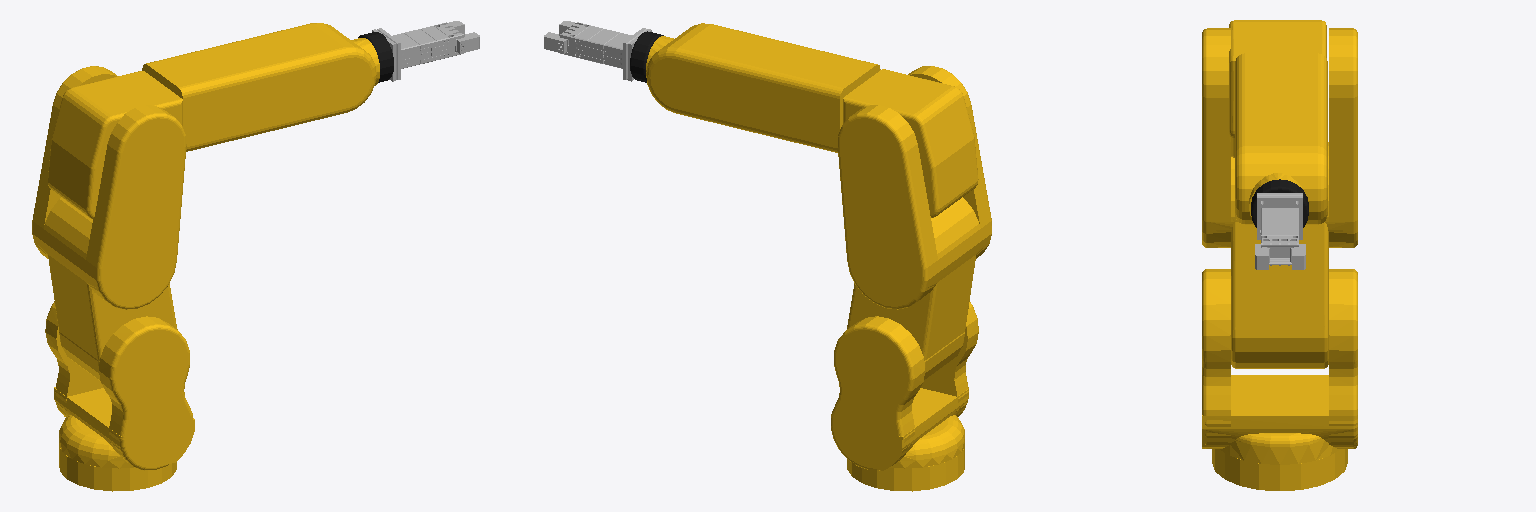
URDF robot description (fanuc_lrmate200id):
<?xml version="1.0" encoding="utf-8" ?>
<!-- =================================================================================== -->
<!-- |    This document was autogenerated by xacro from fanuc_lrmate200id.xacro        | -->
<!-- |    EDITING THIS FILE BY HAND IS NOT RECOMMENDED                                 | -->
<!-- =================================================================================== -->
<!-- =================================================================================== -->
<!-- |    This document was autogenerated by xacro from [local-path]/ros/rosinljubljana/fanuc_ros/src/fanuc_lrmate200id_support/urdf/fanuc_lrmate200id.xacro | -->
<!-- |    EDITING THIS FILE BY HAND IS NOT RECOMMENDED                                 | -->
<!-- =================================================================================== -->
<robot name="fanuc_lrmate200id">
    <!-- links: main serial chain -->
    <link name="base_link">
        <visual>
            <origin rpy="0 0 0" xyz="0 0 0" />
            <geometry>
                <mesh filename="package://fanuc_lrmate200id_support/meshes/lrmate200id/visual/base_link.stl" />
            </geometry>
            <material name="">
                <color rgba="0.278431372549 0.278431372549 0.278431372549 1.0" />
            </material>
        </visual>
        <collision>
            <origin rpy="0 0 0" xyz="0 0 0" />
            <geometry>
                <mesh filename="package://fanuc_lrmate200id_support/meshes/lrmate200id/collision/base_link.stl" />
            </geometry>
        </collision>
        
<inertial>
            <mass value="4" />
            <origin rpy="0 0 0" xyz="0 0 0" />
            <inertia ixx="0.0216667" ixy="0" ixz="0" iyy="0.0216667" iyz="0" izz="0.0240667" />
        </inertial>

    </link>
    <link name="link_1">
        <visual>
            <origin rpy="0 0 0" xyz="0 0 0" />
            <geometry>
                <mesh filename="package://fanuc_lrmate200id_support/meshes/lrmate200id/visual/link_1.stl" />
            </geometry>
            <material name="">
                <color rgba="0.96 0.76 0.13 1.0" />
            </material>
        </visual>
        <collision>
            <origin rpy="0 0 0" xyz="0 0 0" />
            <geometry>
                <mesh filename="package://fanuc_lrmate200id_support/meshes/lrmate200id/collision/link_1.stl" />
            </geometry>
        </collision>
        
<inertial>
            <mass value="4" />
            <origin rpy="0 0 0" xyz="0 0 0" />
            <inertia ixx="0.0322667" ixy="0" ixz="0" iyy="0.0226667" iyz="0" izz="0.0226667" />
        </inertial>

    </link>
    <link name="link_2">
        <visual>
            <origin rpy="0 0 0" xyz="0 0 0" />
            <geometry>
                <mesh filename="package://fanuc_lrmate200id_support/meshes/lrmate200id/visual/link_2.stl" />
            </geometry>
            <material name="">
                <color rgba="0.96 0.76 0.13 1.0" />
            </material>
        </visual>
        <collision>
            <origin rpy="0 0 0" xyz="0 0 0" />
            <geometry>
                <mesh filename="package://fanuc_lrmate200id_support/meshes/lrmate200id/collision/link_2.stl" />
            </geometry>
        </collision>
        
<inertial>
            <mass value="5" />
            <origin rpy="0 0 0" xyz="0 0 0" />
            <inertia ixx="0.0973333" ixy="0" ixz="0" iyy="0.0888333" iyz="0" izz="0.0248333" />
        </inertial>

    </link>
    <link name="link_3">
        <visual>
            <origin rpy="0 0 0" xyz="0 0 0" />
            <geometry>
                <mesh filename="package://fanuc_lrmate200id_support/meshes/lrmate200id/visual/link_3.stl" />
            </geometry>
            <material name="">
                <color rgba="0.96 0.76 0.13 1.0" />
            </material>
        </visual>
        <collision>
            <origin rpy="0 0 0" xyz="0 0 0" />
            <geometry>
                <mesh filename="package://fanuc_lrmate200id_support/meshes/lrmate200id/collision/link_3.stl" />
            </geometry>
        </collision>
        
<inertial>
            <mass value="4" />
            <origin rpy="0 0 0" xyz="0 0 0" />
            <inertia ixx="0.0104333" ixy="0" ixz="0" iyy="0.0121667" iyz="0" izz="0.0113333" />
        </inertial>

    </link>
    <link name="link_4">
        <visual>
            <origin rpy="0 0 0" xyz="0 0 0" />
            <geometry>
                <mesh filename="package://fanuc_lrmate200id_support/meshes/lrmate200id/visual/link_4.stl" />
            </geometry>
            <material name="">
                <color rgba="0.96 0.76 0.13 1.0" />
            </material>
        </visual>
        <collision>
            <origin rpy="0 0 0" xyz="0 0 0" />
            <geometry>
                <mesh filename="package://fanuc_lrmate200id_support/meshes/lrmate200id/collision/link_4.stl" />
            </geometry>
        </collision>
        
<inertial>
            <mass value="5" />
            <origin rpy="0 0 0" xyz="0 0 0" />
            <inertia ixx="0.00833333" ixy="0" ixz="0" iyy="0.0368333" iyz="0" izz="0.0368333" />
        </inertial>

    </link>
    <link name="link_5">
        <visual>
            <origin rpy="0 0 0" xyz="0 0 0" />
            <geometry>
                <mesh filename="package://fanuc_lrmate200id_support/meshes/lrmate200id/visual/link_5.stl" />
            </geometry>
            <material name="">
                <color rgba="0.96 0.76 0.13 1.0" />
            </material>
        </visual>
        <collision>
            <origin rpy="0 0 0" xyz="0 0 0" />
            <geometry>
                <mesh filename="package://fanuc_lrmate200id_support/meshes/lrmate200id/collision/link_5.stl" />
            </geometry>
        </collision>
        
<inertial>
            <mass value="1.5" />
            <origin rpy="0 0 0" xyz="0 0 0" />
            <inertia ixx="0.0018125" ixy="0" ixz="0" iyy="0.0023125" iyz="0" izz="0.002525" />
        </inertial>

    </link>
    <link name="link_6">
        <visual>
            <origin rpy="0 0 0" xyz="-0.057 0 0" />
            <geometry>
                <mesh filename="package://fanuc_lrmate200id_support/meshes/lrmate200id/visual/link_6.stl" />
            </geometry>
            <material name="">
                <color rgba="0.15 0.15 0.15 1.0" />
            </material>
        </visual>
        <collision>
            <origin rpy="0 0 0" xyz="0 0 0" />
            <geometry>
                <mesh filename="package://fanuc_lrmate200id_support/meshes/lrmate200id/collision/link_6.stl" />
            </geometry>
        </collision>
        
<inertial>
            <mass value="0.25" />
            <origin rpy="0 0 0" xyz="0 0 0" />
            <inertia ixx="6.66666e-05" ixy="0" ixz="0" iyy="3.54167e-05" iyz="0" izz="3.54167e-05" />
        </inertial>

    </link>
    <link name="flange">
        <visual>
            <origin rpy="0 0 0" xyz="0 0 0" />
            <geometry>
                <mesh filename="package://fanuc_lrmate200id_support/meshes/lrmate200id/visual/gripper.stl" scale="0.001 0.001 0.001" />
            </geometry>
            <material name="">
                <color rgba="0.75 0.75 0.75 1.0" />
            </material>
        </visual>
        <collision>
            <origin rpy="0 0 0" xyz="0 0 0" />
            <geometry>
                <mesh filename="package://fanuc_lrmate200id_support/meshes/lrmate200id/collision/gripper.stl" scale="0.001 0.001 0.001" />
            </geometry>
        </collision>
        
<inertial>
            <mass value="0.1" />
            <origin rpy="0 0 0" xyz="0 0 0" />
            <inertia ixx="6e-06" ixy="0" ixz="0" iyy="6e-06" iyz="0" izz="6e-06" />
        </inertial>

    </link>
    <link name="left_finger">
        <visual>
            <origin rpy="0 0 0" xyz="0 0 0" />
            <geometry>
                <mesh filename="package://fanuc_lrmate200id_support/meshes/lrmate200id/visual/left_finger.stl" scale="0.001 0.001 0.001" />
            </geometry>
            <material name="">
                <color rgba="0.75 0.75 0.75 1.0" />
            </material>
        </visual>
        <collision>
            <origin rpy="0 0 0" xyz="0 0 0" />
            <geometry>
                <mesh filename="package://fanuc_lrmate200id_support/meshes/lrmate200id/collision/left_finger.stl" scale="0.001 0.001 0.001" />
            </geometry>
        </collision>
        
<inertial>
            <mass value="0.01" />
            <origin rpy="0 0 0" xyz="0 0 0" />
            <inertia ixx="6e-06" ixy="0" ixz="0" iyy="6e-06" iyz="0" izz="6e-06" />
        </inertial>

    </link>
    <link name="right_finger">
        <visual>
            <origin rpy="0 0 0" xyz="0 0 0" />
            <geometry>
                <mesh filename="package://fanuc_lrmate200id_support/meshes/lrmate200id/visual/right_finger.stl" scale="0.001 0.001 0.001" />
            </geometry>
            <material name="">
                <color rgba="0.75 0.75 0.75 1.0" />
            </material>
        </visual>
        <collision>
            <origin rpy="0 0 0" xyz="0 0 0" />
            <geometry>
                <mesh filename="package://fanuc_lrmate200id_support/meshes/lrmate200id/collision/right_finger.stl" scale="0.001 0.001 0.001" />
            </geometry>
        </collision>
        
<inertial>
            <mass value="0.01" />
            <origin rpy="0 0 0" xyz="0 0 0" />
            <inertia ixx="6e-06" ixy="0" ixz="0" iyy="6e-06" iyz="0" izz="6e-06" />
        </inertial>

    </link>
    <!-- joints: main serial chain -->
    <joint name="joint_1" type="revolute">
        <origin rpy="0 0 0" xyz="-0.006 -0.002 0.290" />
        <parent link="base_link" />
        <child link="link_1" />
        <axis xyz="0 0 1" />
        <dynamics damping="1.0" />
        <limit effort="100" lower="-2.965" upper="2.965" velocity="7.85" />
    </joint>
    <joint name="joint_2" type="revolute">
        <origin rpy="0 0 0" xyz="0 0 0.040" />
        <parent link="link_1" />
        <child link="link_2" />
        <axis xyz="0 1 0" />
        <dynamics damping="1.0" />
        <limit effort="100" lower="-1.745329" upper="2.530727" velocity="6.63" />
    </joint>
    <joint name="joint_3" type="revolute">
        <origin rpy="0 0 0" xyz="0.0 0 0.26" />
        <parent link="link_2" />
        <child link="link_3" />
        <axis xyz="0 -1 0" />
        <dynamics damping="1.0" />
        <limit effort="100" lower="-2.450966" upper="4.886922" velocity="9.08" />
    </joint>
    <joint name="joint_4" type="revolute">
        <origin rpy="0 0 0" xyz="0.064 0 0.02" />
        <parent link="link_3" />
        <child link="link_4" />
        <axis xyz="-1 0 0" />
        <dynamics damping="1.0" />
        <limit effort="100" lower="-3.315" upper="3.315" velocity="9.60" />
    </joint>
    <joint name="joint_5" type="revolute">
        <origin rpy="0 0 0" xyz="0.226 0 0" />
        <parent link="link_4" />
        <child link="link_5" />
        <axis xyz="0 -1 0" />
        <dynamics damping="1.0" />
        <limit effort="100" lower="-2.18" upper="2.18" velocity="9.51" />
    </joint>
    <joint name="joint_6" type="revolute">
        <origin rpy="0 0 0" xyz="0.070 0 0" />
        <parent link="link_5" />
        <child link="link_6" />
        <axis xyz="-1 0 0" />
        <dynamics damping="1.0" />
        <limit effort="100" lower="-6.285" upper="6.285" velocity="17.45" />
    </joint>
    <!-- WORLD LINK -->
    <link name="world" />
    <joint name="world" type="fixed">
        <origin rpy="0 0 0" xyz="0 0 0" />
        <parent link="world" />
        <child link="base_link" />
    </joint>
    <!-- ROS-Industrial 'flange' frame: attachment point for EEF models -->
    <joint name="joint_6-flange" type="fixed">
        <origin rpy="0 0 0" xyz="0.0 0.0 0.0" />
        <parent link="link_6" />
        <child link="flange" />
    </joint>
    <joint name="finger_joint1" type="prismatic">
        <parent link="flange" />
        <child link="left_finger" />
        <origin rpy="0 0 0" xyz="0.088 0 0" />
        <axis xyz="0 -1 0" />
        <dynamics damping="1.0" />
        <limit effort="10" lower="0.0" upper="0.015" velocity="0.2" />
    </joint>
    <joint name="finger_joint2" type="prismatic">
        <parent link="flange" />
        <child link="right_finger" />
        <origin rpy="0 0 0" xyz="0.088 0 0" />
        <axis xyz="0 1 0" />
        <dynamics damping="1.0" />
        <limit effort="10" lower="0.0" upper="0.015" velocity="0.2" />
        <mimic joint="finger_joint1" />
    </joint>
    
<transmission name="trans_joint_1">
        <type>transmission_interface/SimpleTransmission</type>
        <joint name="joint_1">
            <hardwareInterface>hardware_interface/EffortJointInterface</hardwareInterface>
        </joint>
        <actuator name="joint_1_motor">
            <hardwareInterface>hardware_interface/EffortJointInterface</hardwareInterface>
            <mechanicalReduction>1</mechanicalReduction>
        </actuator>
    </transmission>
    <transmission name="trans_joint_2">
        <type>transmission_interface/SimpleTransmission</type>
        <joint name="joint_2">
            <hardwareInterface>hardware_interface/EffortJointInterface</hardwareInterface>
        </joint>
        <actuator name="joint_2_motor">
            <hardwareInterface>hardware_interface/EffortJointInterface</hardwareInterface>
            <mechanicalReduction>1</mechanicalReduction>
        </actuator>
    </transmission>
    <transmission name="trans_joint_3">
        <type>transmission_interface/SimpleTransmission</type>
        <joint name="joint_3">
            <hardwareInterface>hardware_interface/EffortJointInterface</hardwareInterface>
        </joint>
        <actuator name="joint_3_motor">
            <hardwareInterface>hardware_interface/EffortJointInterface</hardwareInterface>
            <mechanicalReduction>1</mechanicalReduction>
        </actuator>
    </transmission>
    <transmission name="trans_joint_4">
        <type>transmission_interface/SimpleTransmission</type>
        <joint name="joint_4">
            <hardwareInterface>hardware_interface/EffortJointInterface</hardwareInterface>
        </joint>
        <actuator name="joint_4_motor">
            <hardwareInterface>hardware_interface/EffortJointInterface</hardwareInterface>
            <mechanicalReduction>1</mechanicalReduction>
        </actuator>
    </transmission>
    <transmission name="trans_joint_5">
        <type>transmission_interface/SimpleTransmission</type>
        <joint name="joint_5">
            <hardwareInterface>hardware_interface/EffortJointInterface</hardwareInterface>
        </joint>
        <actuator name="joint_5_motor">
            <hardwareInterface>hardware_interface/EffortJointInterface</hardwareInterface>
            <mechanicalReduction>1</mechanicalReduction>
        </actuator>
    </transmission>
    <transmission name="trans_joint_6">
        <type>transmission_interface/SimpleTransmission</type>
        <joint name="joint_6">
            <hardwareInterface>hardware_interface/EffortJointInterface</hardwareInterface>
        </joint>
        <actuator name="joint_6_motor">
            <hardwareInterface>hardware_interface/EffortJointInterface</hardwareInterface>
            <mechanicalReduction>1</mechanicalReduction>
        </actuator>
    </transmission>
    <transmission name="trans_finger_joint1">
        <type>transmission_interface/SimpleTransmission</type>
        <joint name="finger_joint1">
            <hardwareInterface>hardware_interface/PositionJointInterface</hardwareInterface>
        </joint>
        <actuator name="finger_joint1_motor">
            <hardwareInterface>hardware_interface/PositionJointInterface</hardwareInterface>
            <mechanicalReduction>1</mechanicalReduction>
        </actuator>
    </transmission>
    <transmission name="trans_finger_joint2">
        <type>transmission_interface/SimpleTransmission</type>
        <joint name="finger_joint2">
            <hardwareInterface>hardware_interface/PositionJointInterface</hardwareInterface>
        </joint>
        <actuator name="finger_joint2_motor">
            <hardwareInterface>hardware_interface/PositionJointInterface</hardwareInterface>
            <mechanicalReduction>1</mechanicalReduction>
        </actuator>
    </transmission>
    <gazebo>
        <plugin name="gazebo_ros_control" filename="libgazebo_ros_control.so">
            <robotNamespace>/</robotNamespace>
        </plugin>
    </gazebo>
</robot>

--- Facts derived from the render (not from the file) ---
3 views of the same robot in one strip: view 1: azimuth 30°, elevation 25°; view 2: azimuth 150°, elevation 25°; view 3: azimuth 270°, elevation 25° (orthographic).
Robot: fanuc_lrmate200id — 11 links, 10 joints (6 revolute, 2 prismatic, 2 fixed); root link world; default pose: all joints at 0.
Visible links, largest first — view 1: link_2, link_1, link_4, link_3, flange, link_6; view 2: link_2, link_1, link_4, link_3, flange, link_6; view 3: link_2, link_1, link_4, link_3, flange, link_6, left_finger.
Boxes of the visible links, bbox=[...] form: link_2: bbox=[32, 66, 186, 380]; link_1: bbox=[45, 301, 194, 491]; link_4: bbox=[142, 23, 376, 151]; link_3: bbox=[48, 71, 182, 218]; flange: bbox=[372, 22, 464, 81]; link_6: bbox=[358, 32, 393, 82]; link_2: bbox=[838, 66, 991, 380]; link_1: bbox=[831, 302, 978, 491]; link_4: bbox=[646, 23, 880, 152]; link_3: bbox=[843, 69, 978, 217]; flange: bbox=[559, 22, 651, 81]; link_6: bbox=[630, 31, 663, 82]; link_2: bbox=[1202, 28, 1357, 368]; link_1: bbox=[1202, 269, 1357, 490]; link_4: bbox=[1235, 53, 1327, 224]; link_3: bbox=[1229, 20, 1326, 157]; flange: bbox=[1257, 193, 1302, 265]; link_6: bbox=[1251, 179, 1308, 227]; left_finger: bbox=[1270, 244, 1305, 269].
Bounding box of the posed robot: 0.5524 × 0.16 × 0.4932 m (x, y, z).
9 mesh visuals loaded from 10 distinct referenced files (9 binary STL); not drawn: 1 (reference not matched to a file when rendering).
